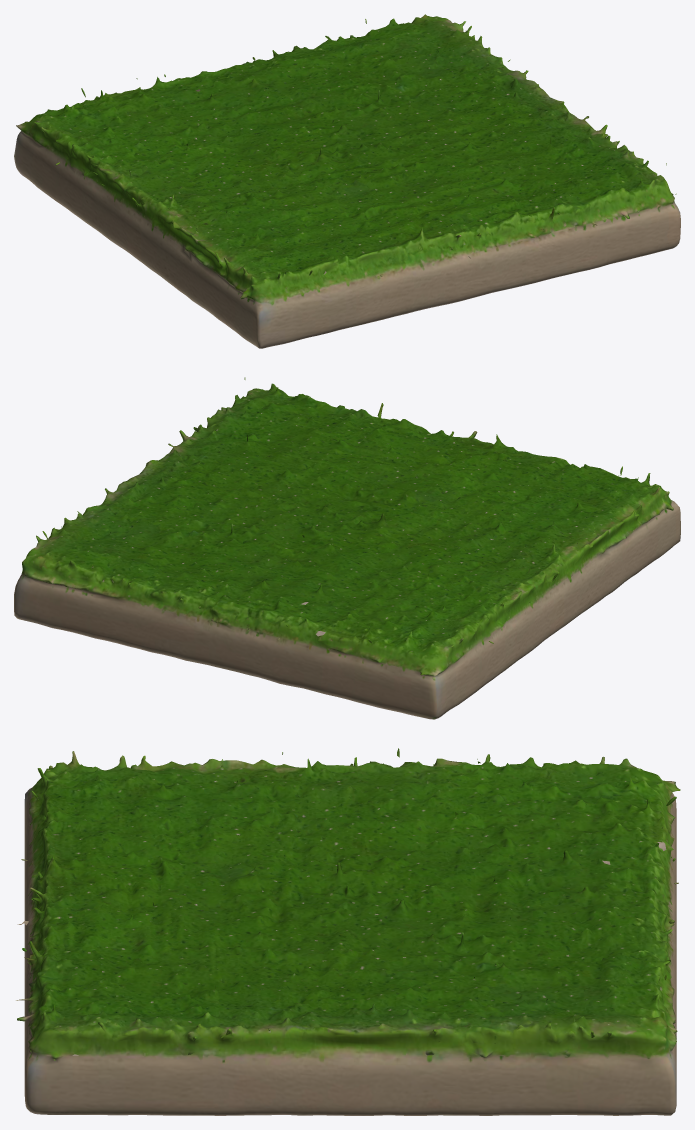
File: Terrain.fbx
The picture shows the model from 3 angles, top to bottom: view 1: azimuth 30°, elevation 25°; view 2: azimuth 150°, elevation 25°; view 3: azimuth 270°, elevation 25°; orthographic projection. The views are drawn at different scales.
Visible parts, largest first — view 1: tripo_node_26ce2883; view 2: tripo_node_26ce2883; view 3: tripo_node_26ce2883.
Part boxes in pixels (x1,y1,x2,y2): tripo_node_26ce2883: (14,14,680,348); tripo_node_26ce2883: (14,377,680,719); tripo_node_26ce2883: (16,748,680,1115).
Bounding box in the file's own units: 96.1 × 16.45 × 95.62.
Materials: 1 (1 with a texture image).
